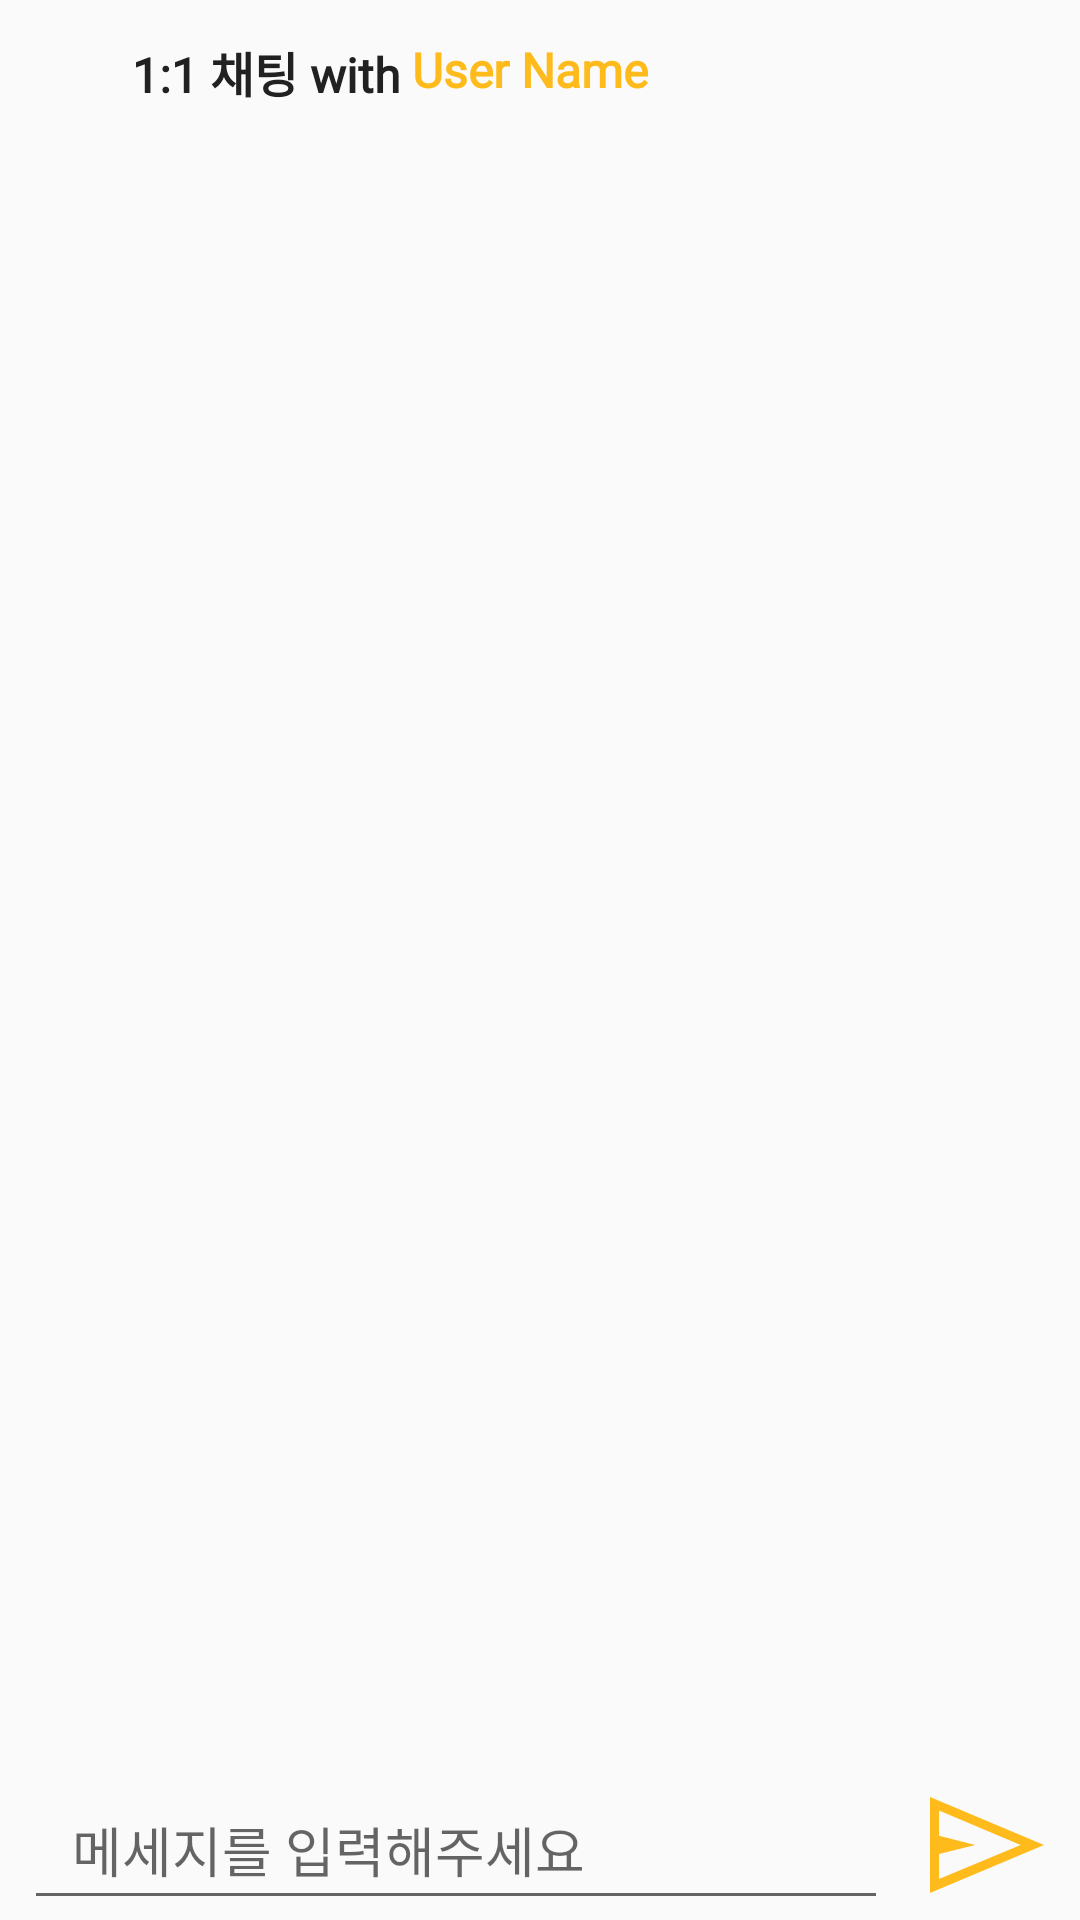

Where to tap for icons on this 1080x1920 app screen, as point (x, y):
send: point (987, 1845)
